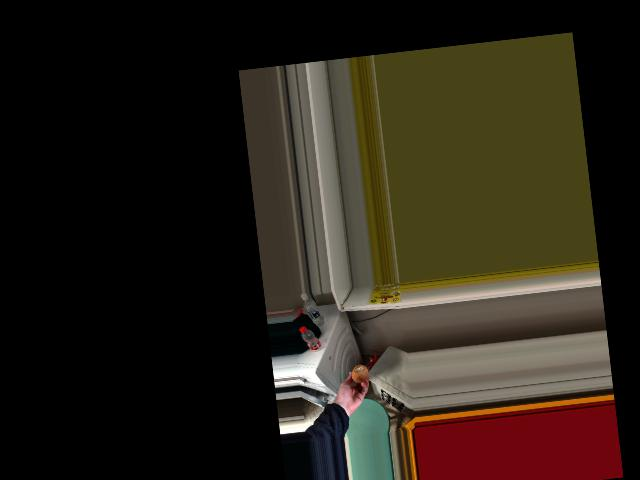sweet_potato: (350, 364, 368, 386)
